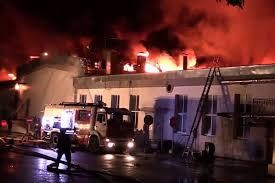fire: (134, 49, 199, 70)
